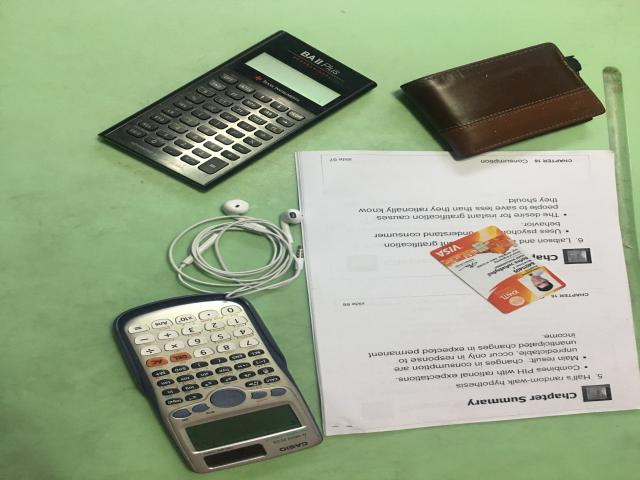Wallet: (402, 43, 605, 159)
paper: (297, 151, 638, 435)
wire: (168, 200, 305, 298)
